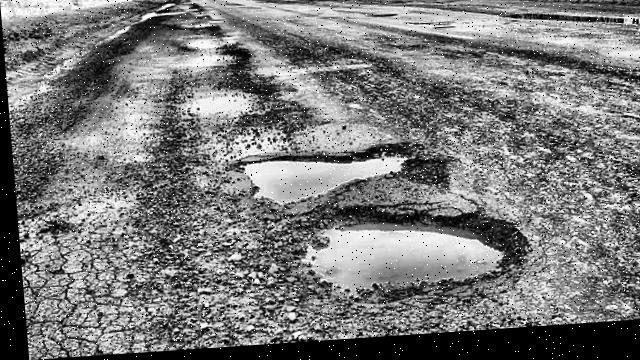pothole: (283, 205, 531, 315), (226, 144, 411, 214), (169, 84, 290, 168), (176, 53, 236, 79)
